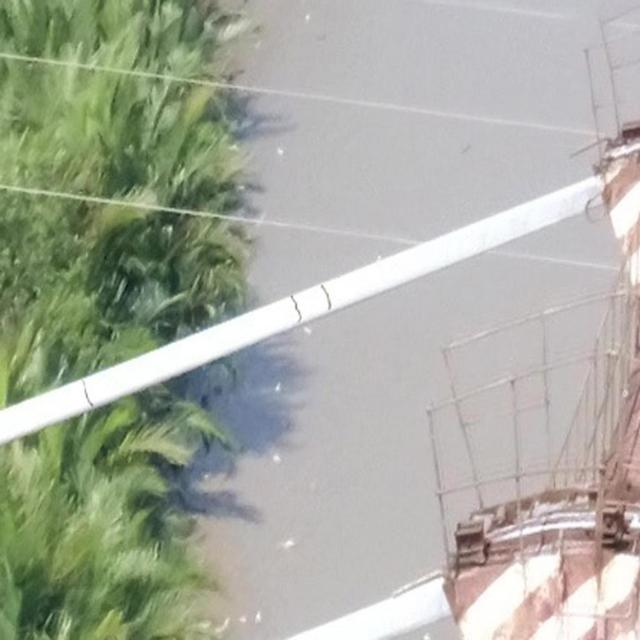crack: (80, 379, 94, 408), (291, 295, 302, 323), (321, 284, 331, 312)
